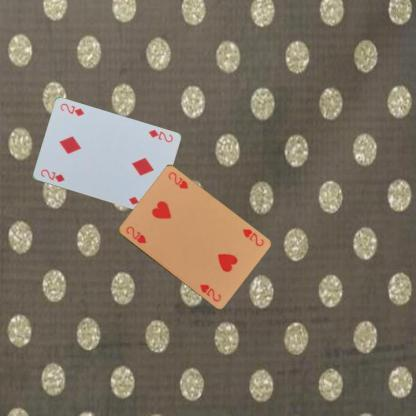2d: (38, 167, 66, 184), (146, 127, 174, 144)
2h: (240, 226, 264, 248), (123, 224, 147, 244)
